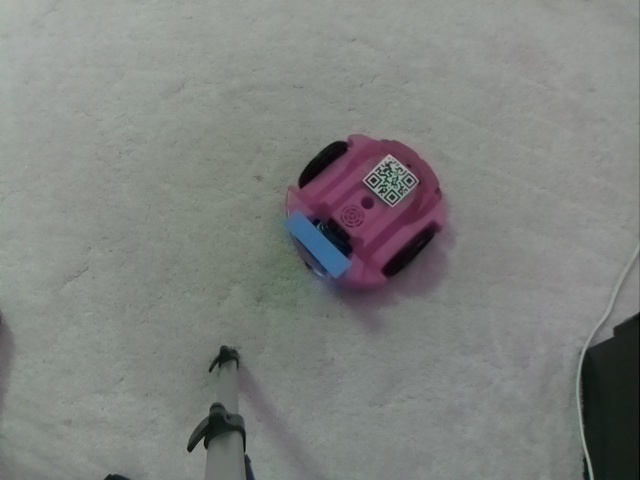chassis: (292, 126, 459, 294)
qr: (361, 146, 416, 211)
